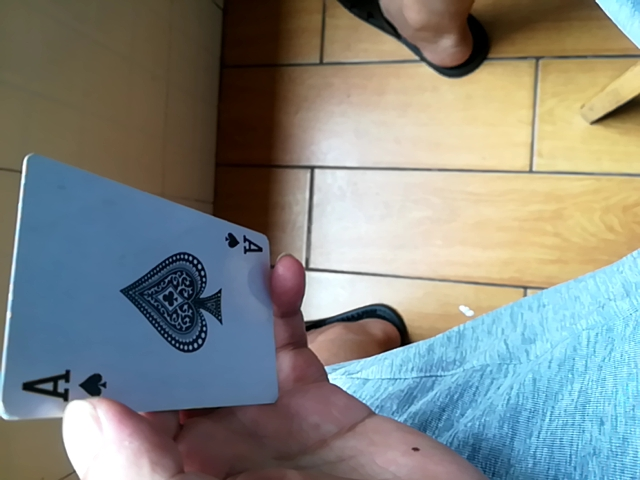ht a: (4, 150, 281, 420)
